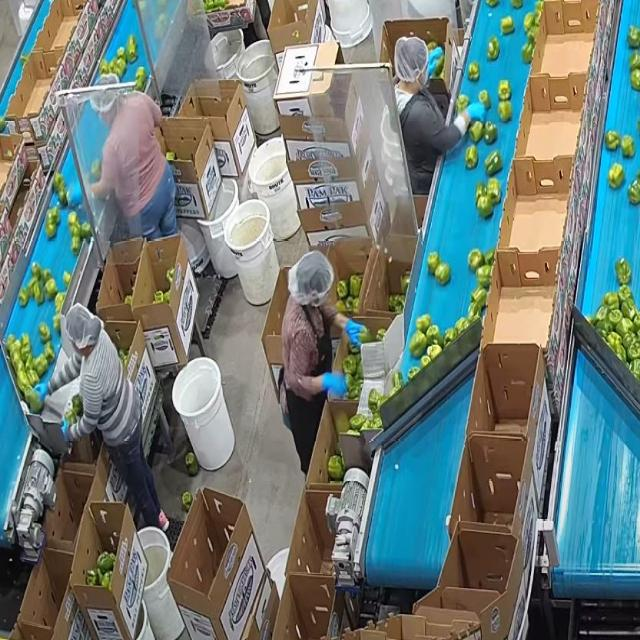gloved_hand: (320, 370, 349, 402), (342, 316, 367, 346), (467, 98, 489, 126), (30, 379, 51, 406), (428, 45, 444, 79), (66, 184, 84, 211), (61, 416, 72, 442)
